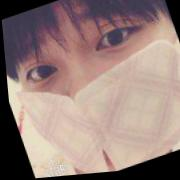WRONG: (1, 1, 180, 180)
